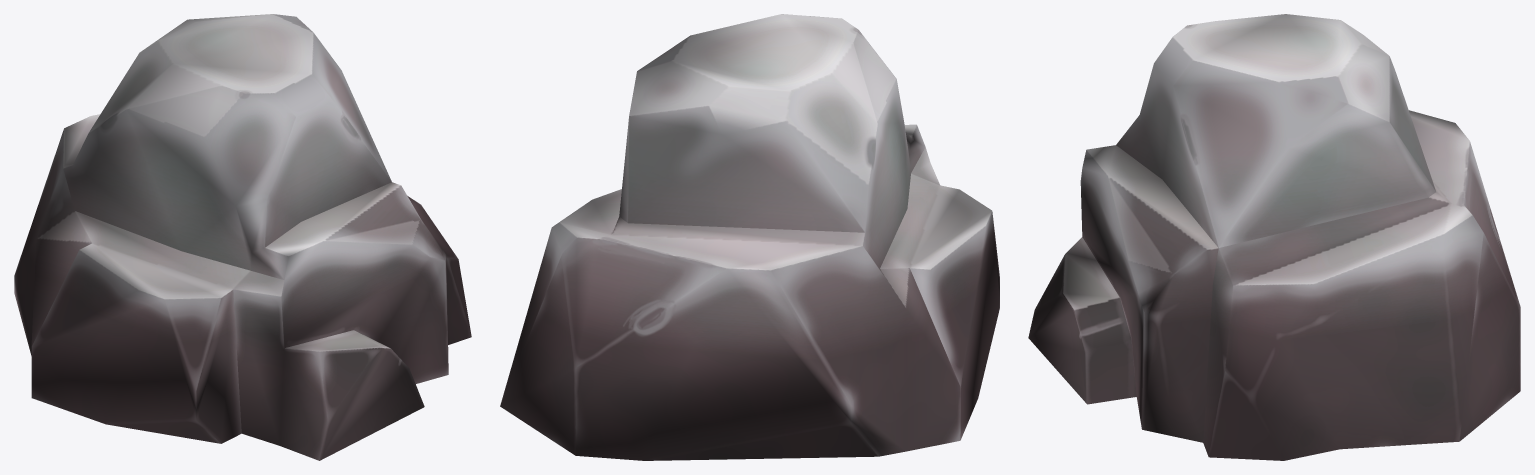
The model's file is Rock.fbx.
3 renders of one model, left to right at view 1: azimuth 30°, elevation 25°; view 2: azimuth 150°, elevation 25°; view 3: azimuth 270°, elevation 25°, orthographic. The views are drawn at different scales.
Visible parts, largest first — view 1: Rock1; view 2: Rock1; view 3: Rock1.
Part boxes in pixels (<box>): Rock1: <box>14,14,471,460</box>; Rock1: <box>500,14,999,460</box>; Rock1: <box>1028,14,1520,460</box>.
Bounding box in the file's own units: 473 × 349 × 496.
